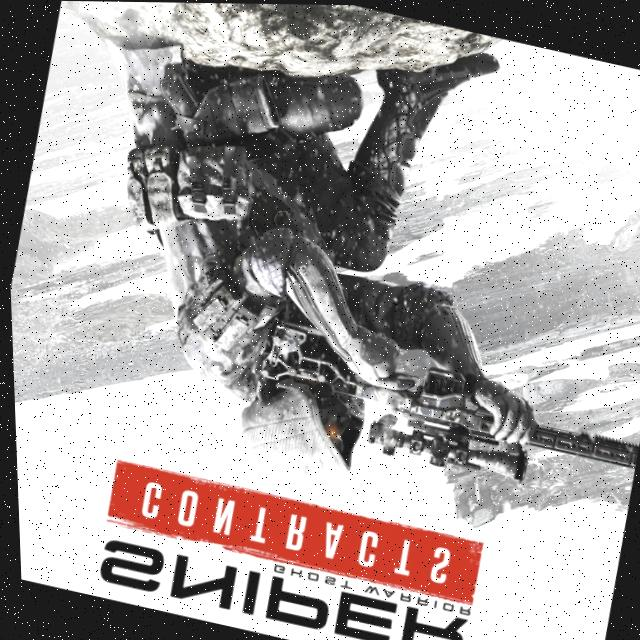firearm: (246, 321, 640, 508)
